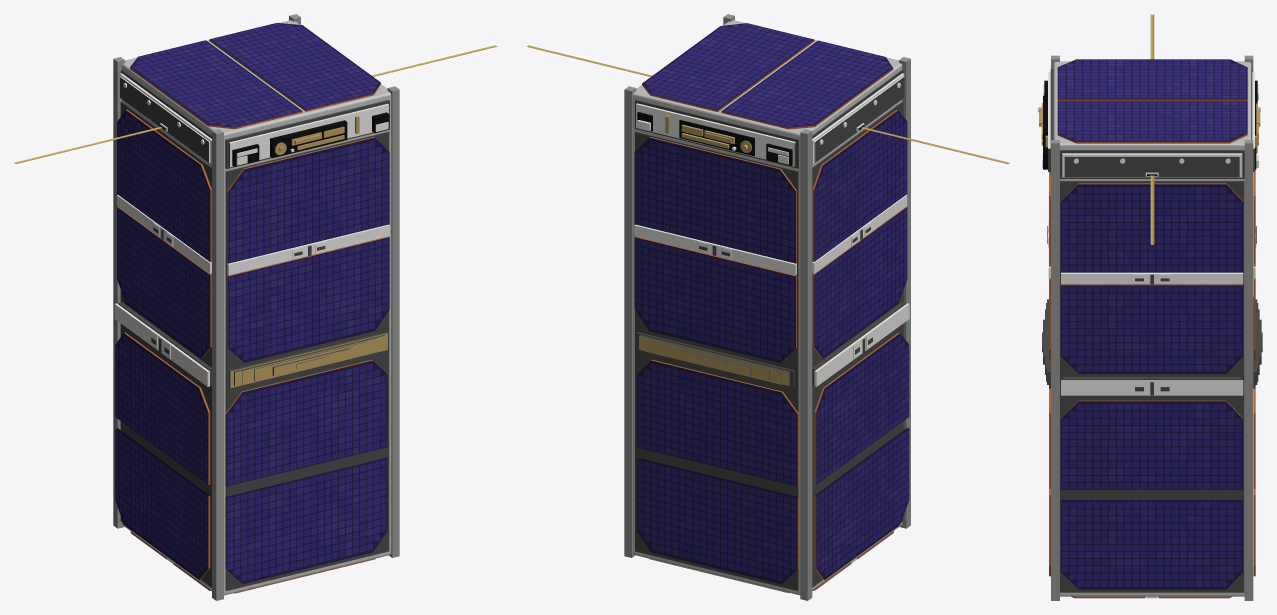
The model's file is cubesat2U.obj.
The picture shows the model from 3 angles, left to right: view 1: azimuth 30°, elevation 25°; view 2: azimuth 150°, elevation 25°; view 3: azimuth 270°, elevation 25°; orthographic projection. The views are drawn at different scales.
Visible parts, largest first — view 1: obj16, obj7, obj3, obj13, obj5, obj4, obj14, obj6, obj2, obj15, obj1, obj8 (+4 smaller); view 2: obj16, obj7, obj3, obj13, obj5, obj4, obj14, obj6, obj2, obj15, obj1, obj8 (+4 smaller); view 3: obj16, obj13, obj7, obj3, obj5, obj4, obj14, obj6, obj15, obj2, obj1, obj17 (+4 smaller).
Part boxes in pixels (bbox=[...]): obj16: bbox=[115, 23, 389, 588]; obj7: bbox=[119, 27, 381, 572]; obj3: bbox=[119, 26, 381, 575]; obj13: bbox=[118, 70, 389, 590]; obj5: bbox=[115, 24, 388, 581]; obj4: bbox=[115, 23, 388, 568]; obj14: bbox=[113, 14, 399, 600]; obj6: bbox=[115, 24, 388, 579]; obj2: bbox=[119, 35, 381, 555]; obj15: bbox=[114, 73, 389, 563]; obj1: bbox=[119, 34, 381, 562]; obj8: bbox=[122, 20, 391, 595]; obj16: bbox=[634, 23, 909, 586]; obj7: bbox=[642, 29, 908, 572]; obj3: bbox=[642, 25, 908, 575]; obj13: bbox=[635, 69, 906, 590]; obj5: bbox=[635, 23, 908, 581]; obj4: bbox=[635, 26, 908, 573]; obj14: bbox=[624, 14, 910, 600]; obj6: bbox=[635, 36, 900, 579]; obj2: bbox=[642, 24, 908, 567]; obj15: bbox=[634, 73, 909, 563]; obj1: bbox=[642, 35, 908, 562]; obj8: bbox=[633, 20, 902, 595]; obj16: bbox=[1057, 59, 1247, 589]; obj13: bbox=[1042, 69, 1262, 592]; obj7: bbox=[1058, 60, 1238, 586]; obj3: bbox=[1058, 60, 1238, 586]; obj5: bbox=[1058, 60, 1246, 586]; obj4: bbox=[1058, 60, 1246, 586]; obj14: bbox=[1051, 55, 1253, 600]; obj6: bbox=[1075, 60, 1246, 586]; obj15: bbox=[1042, 72, 1258, 598]; obj2: bbox=[1058, 60, 1238, 586]; obj1: bbox=[1058, 70, 1238, 564]; obj17: bbox=[1049, 99, 1255, 598].
Size of the model in its own units: 5.39 by 5 by 2.21.
